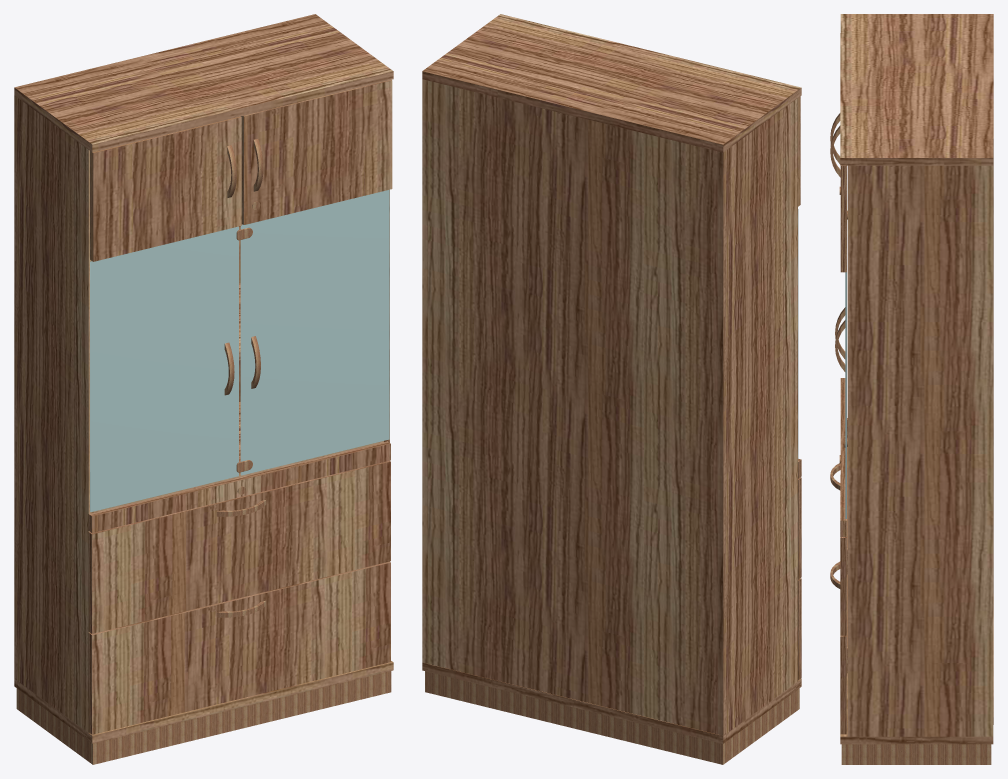
Rendered from baseline_5OH_45x100_hanging_frame_display_hinged_door_combined_FINALA.fbx.
3 renders of one model, left to right at view 1: azimuth 30°, elevation 25°; view 2: azimuth 150°, elevation 25°; view 3: azimuth 270°, elevation 25°, orthographic. The views are drawn at different scales.
Visible parts, largest first — view 1: drewno_mesh (×5), polySurface5, szklo_mesh (×2), metal_mesh; view 2: polySurface5, metal_mesh; view 3: polySurface5, metal_mesh, drewno_mesh (×4), szklo_mesh.
Part boxes in pixels (box(x1,y1,x2,y2)): drewno_mesh (×5): box(88, 79, 392, 734); polySurface5: box(14, 14, 393, 743); szklo_mesh (×2): box(90, 189, 389, 511); metal_mesh: box(16, 671, 391, 764); polySurface5: box(422, 14, 801, 743); metal_mesh: box(425, 671, 799, 764); polySurface5: box(840, 14, 993, 744); metal_mesh: box(841, 744, 991, 764); drewno_mesh (×4): box(840, 165, 846, 734); szklo_mesh: box(845, 272, 846, 518).
Size of the model in its own units: 254 by 501 by 122.
